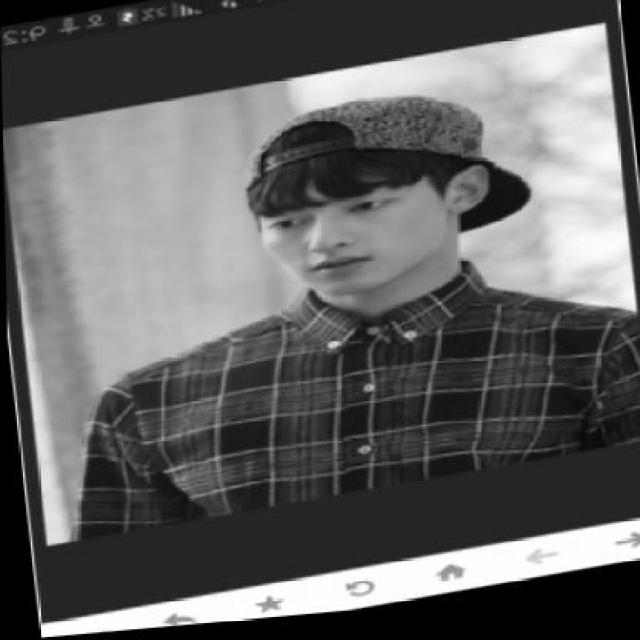hat: (242, 105, 529, 242)
